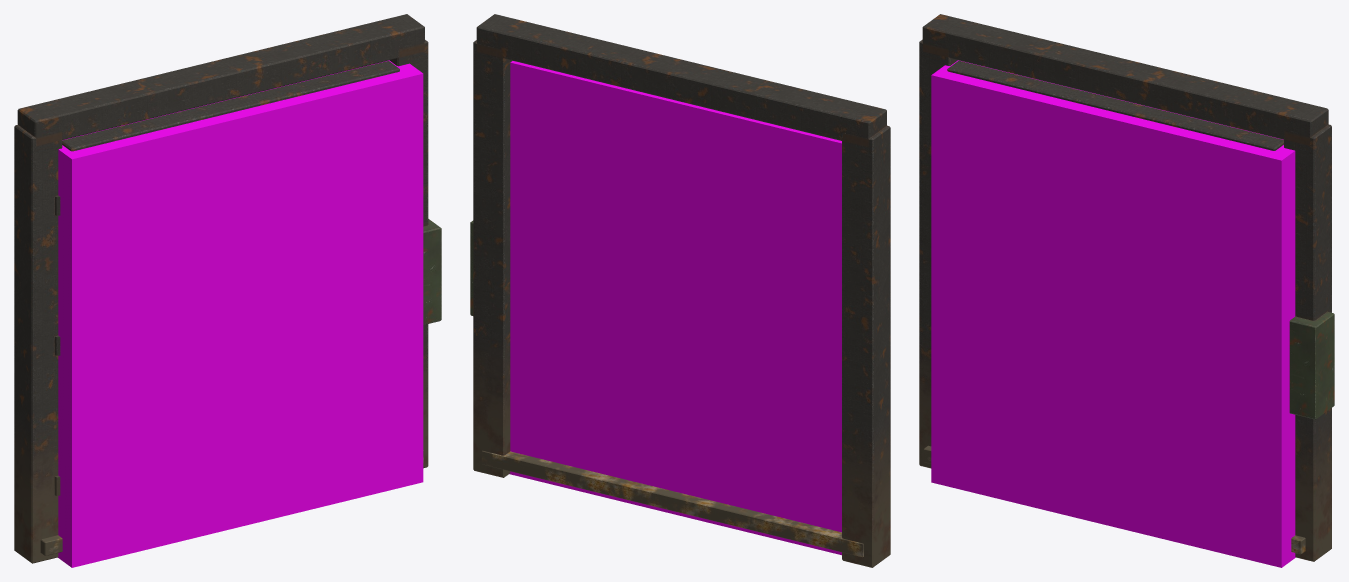
File: prop_door_blast.glb
The picture shows the model from 3 angles, left to right: view 1: azimuth 30°, elevation 25°; view 2: azimuth 150°, elevation 25°; view 3: azimuth 330°, elevation 25°; orthographic projection.
Parts seen in each view (by area): view 1: prop_door_blast-col, Frame, Panel; view 2: prop_door_blast-col, Frame; view 3: prop_door_blast-col, Frame, Panel.
Part boxes in pixels (left/top/right/bottom): prop_door_blast-col: left=58, top=60, right=423, bottom=567; Frame: left=14, top=14, right=441, bottom=563; Panel: left=62, top=61, right=399, bottom=151; prop_door_blast-col: left=509, top=61, right=841, bottom=555; Frame: left=470, top=14, right=890, bottom=567; prop_door_blast-col: left=931, top=60, right=1295, bottom=567; Frame: left=919, top=14, right=1334, bottom=561; Panel: left=947, top=60, right=1283, bottom=150.
Bounding box in the file's own units: 3.62 × 3.78 × 0.4975.
3 materials, 2 textured.
